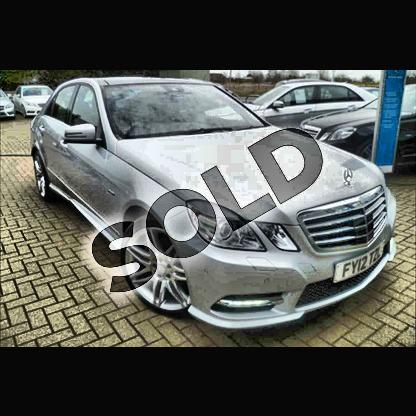Mercedes-Benz E-Class Sedan 2012: (31, 78, 396, 326)
